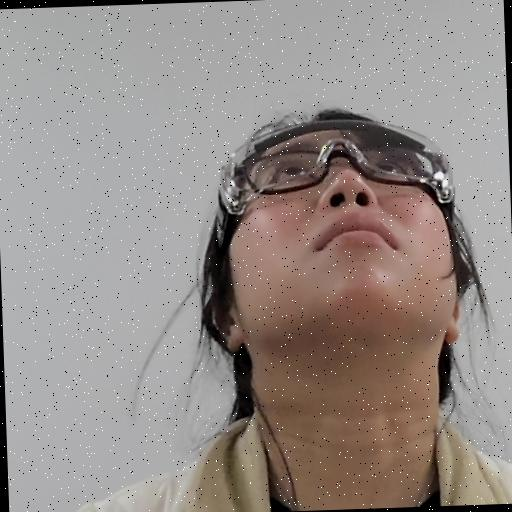glasses: (181, 102, 492, 437)
